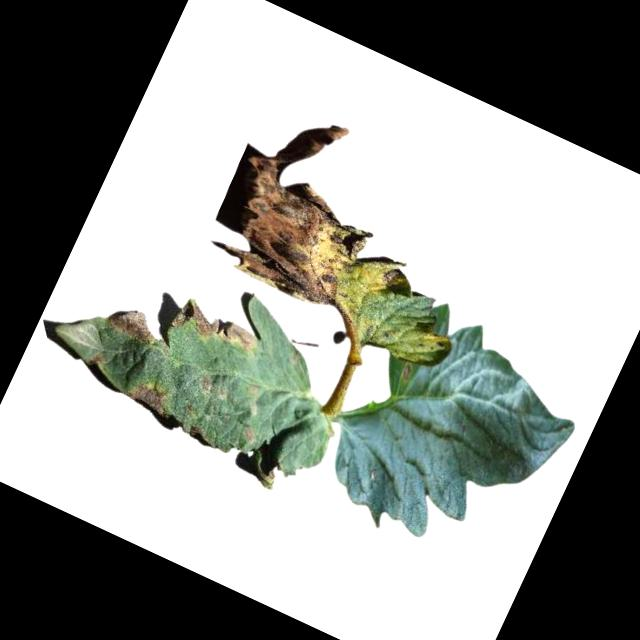Early_blight: (203, 97, 413, 319), (169, 292, 263, 361), (105, 302, 161, 348), (122, 375, 174, 419), (379, 262, 409, 294), (236, 424, 259, 448), (88, 346, 111, 369), (397, 364, 414, 385), (197, 374, 211, 390)
